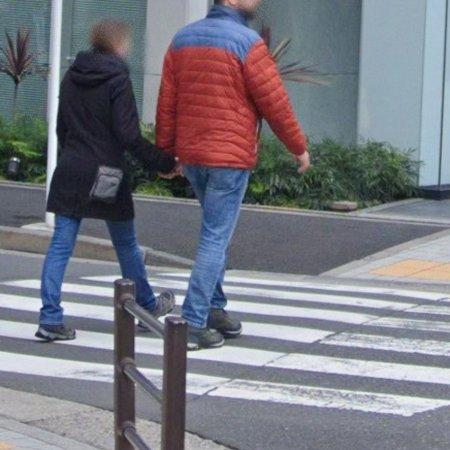crosswalks: (187, 274, 450, 417), (64, 277, 113, 352), (0, 280, 38, 341)
